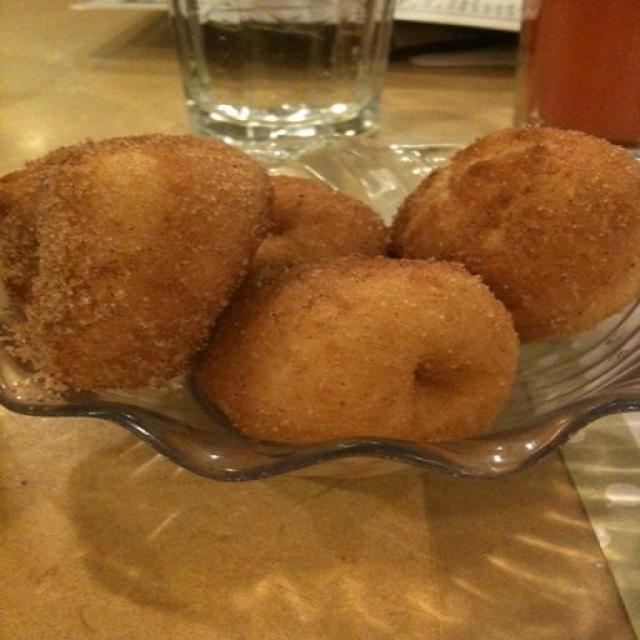Donuts: (10, 105, 640, 507)
